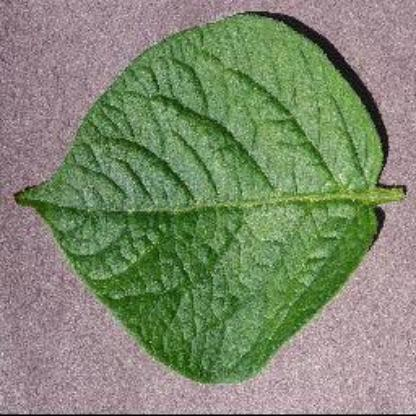Healthy-plant: (28, 0, 415, 378)
